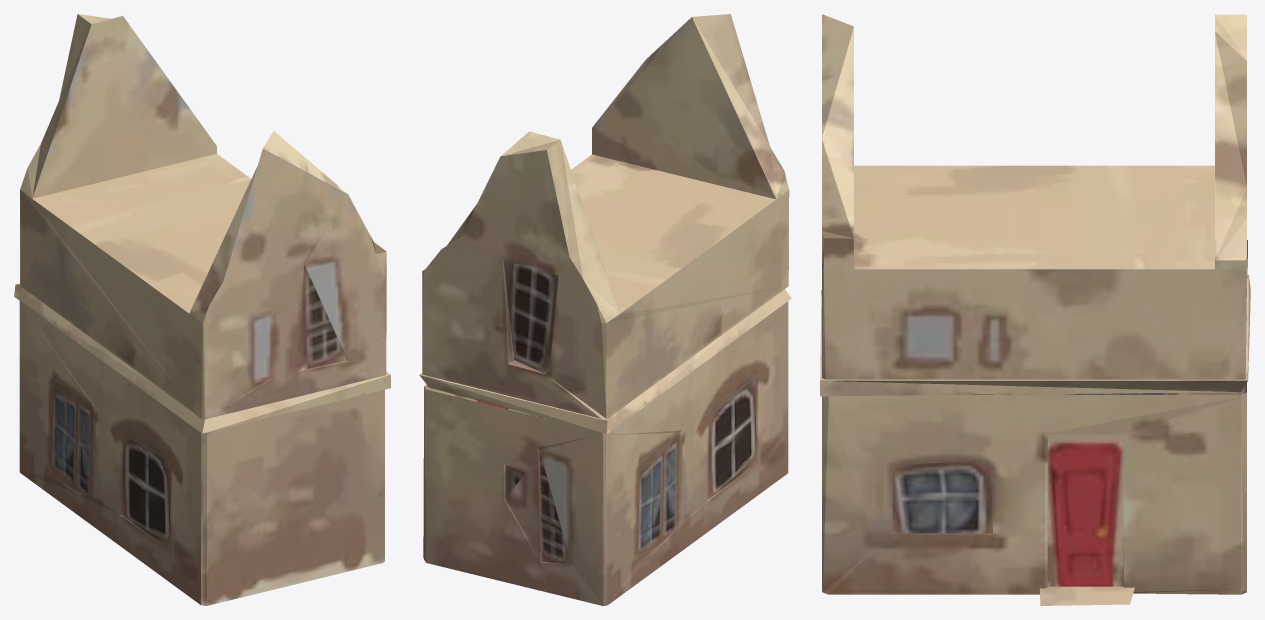
The model's file is sf_house_1_lod.glb.
3 renders of one model, left to right at view 1: azimuth 30°, elevation 25°; view 2: azimuth 150°, elevation 25°; view 3: azimuth 270°, elevation 25°, orthographic. The views are drawn at different scales.
Visible parts, largest first — view 1: soloport_house_highpoly_soloport_house_0; view 2: soloport_house_highpoly_soloport_house_0; view 3: soloport_house_highpoly_soloport_house_0.
Boxes of the visible parts, x1,y1,x2,y2 form: soloport_house_highpoly_soloport_house_0: (14, 14, 390, 605); soloport_house_highpoly_soloport_house_0: (419, 14, 791, 605); soloport_house_highpoly_soloport_house_0: (820, 14, 1250, 605).
Bounding box in the file's own units: 3.9 × 8 × 6.1.
Materials: 1 (1 with a texture image).
